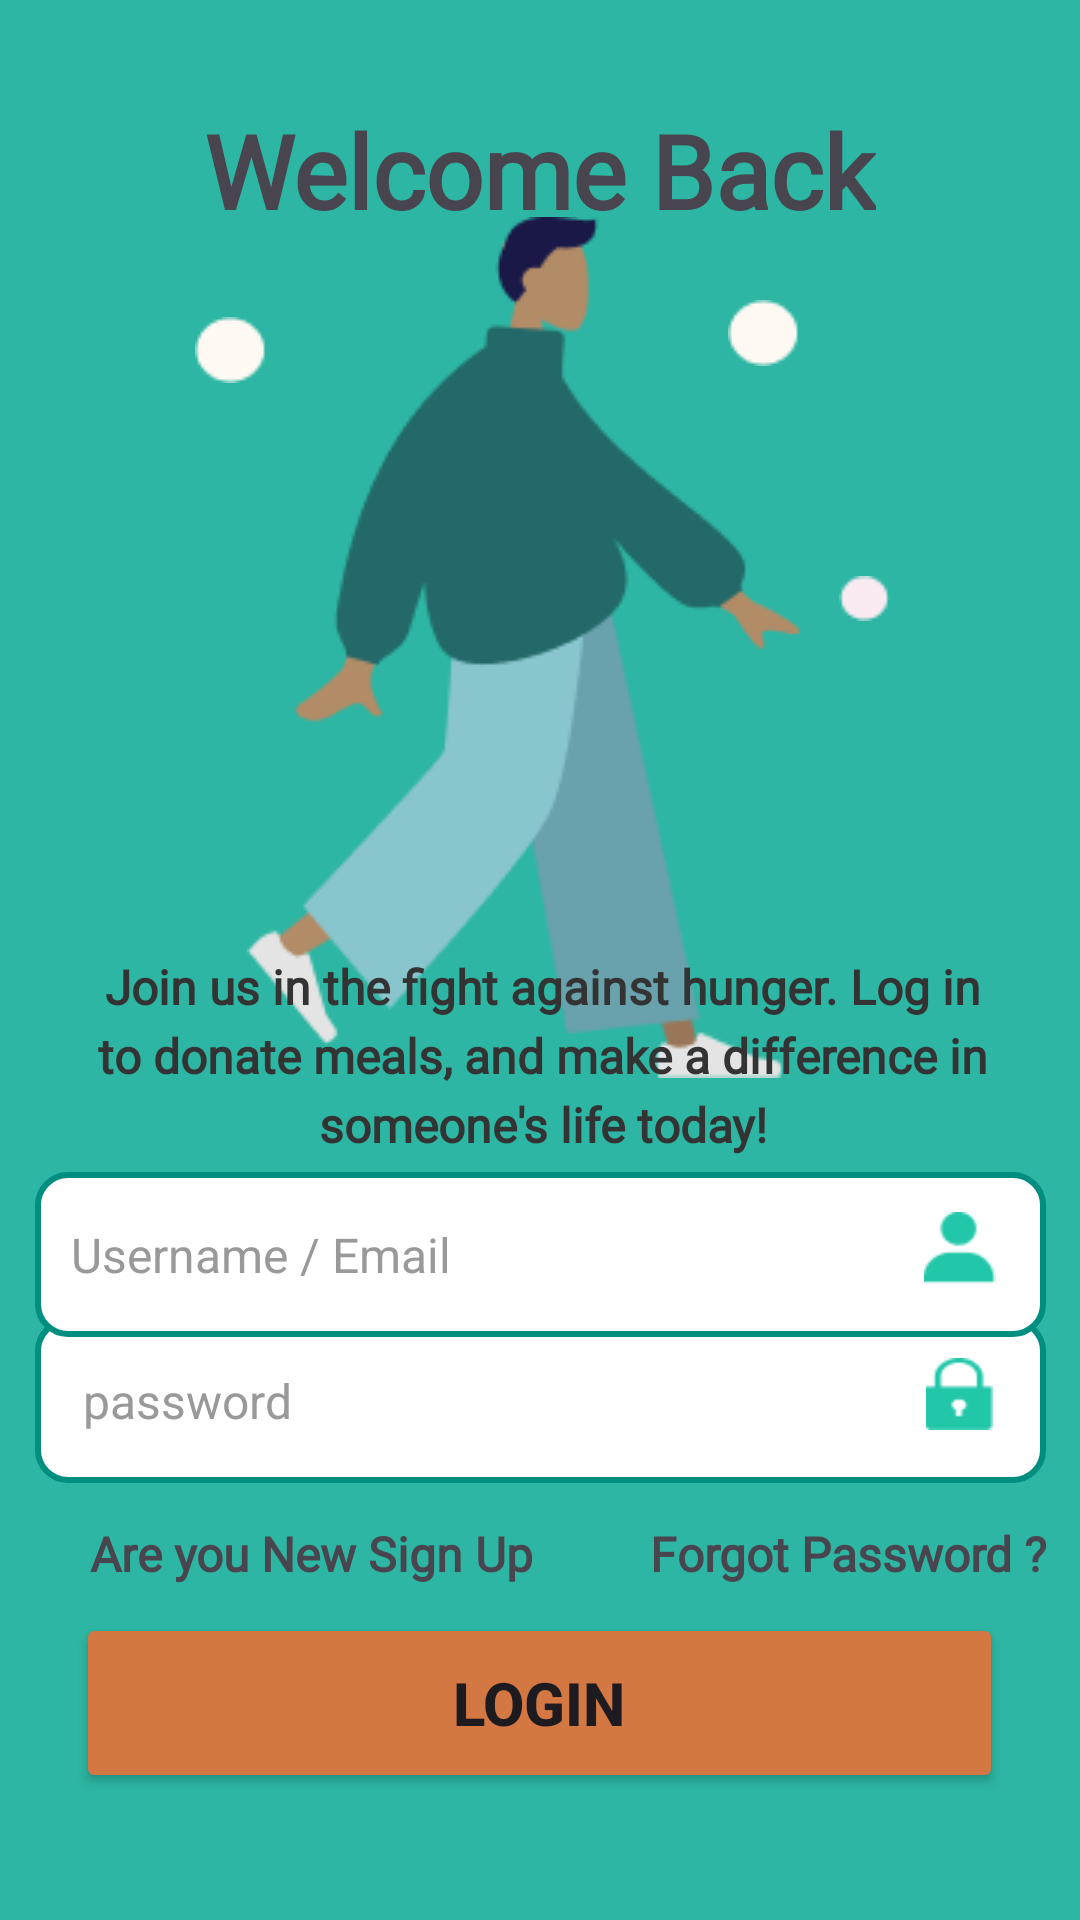

Named icons in this screenshot (1080px x 1920px) and their centers, point (x, y):
profile: point (960, 1248)
